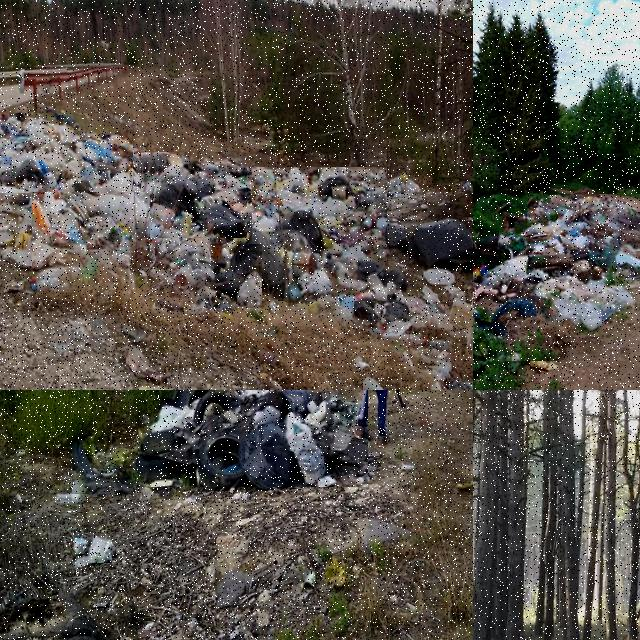lixeira: (473, 194, 639, 363), (139, 390, 371, 489), (253, 168, 389, 302), (32, 192, 151, 292), (0, 113, 136, 195), (141, 153, 248, 240), (0, 134, 57, 269), (155, 244, 263, 310), (383, 221, 472, 272), (354, 262, 410, 331), (73, 436, 135, 496), (74, 534, 114, 565), (364, 372, 404, 389), (391, 176, 421, 193), (303, 570, 316, 588)
